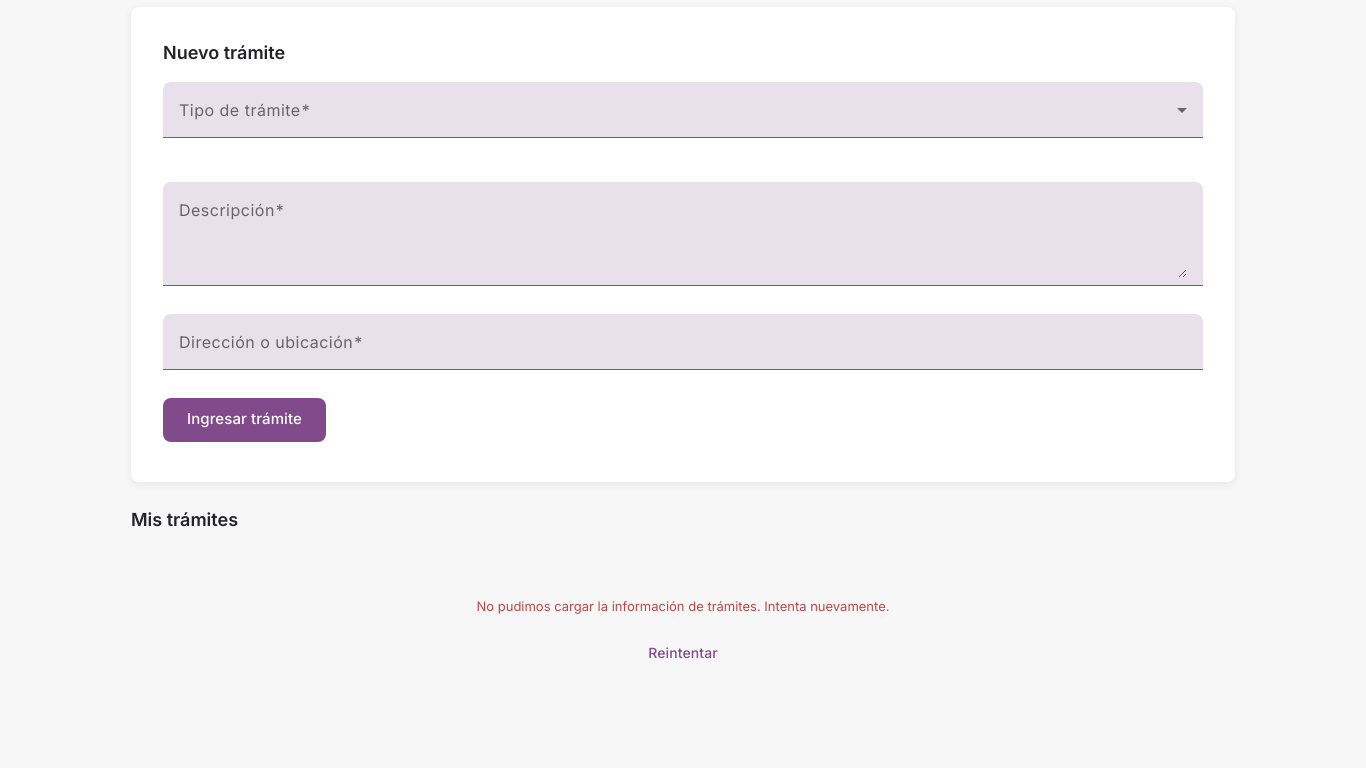
Test: RequestsComponent › si falla la carga ofrece Reintentar y vuelve a pedir el listado
(page scrolled)
What coordinates should you click on to do the following:
click the button "Reintentar"
I would click on:
 (683, 652)
Its box is [636,632,730,672].
(page scrolled)
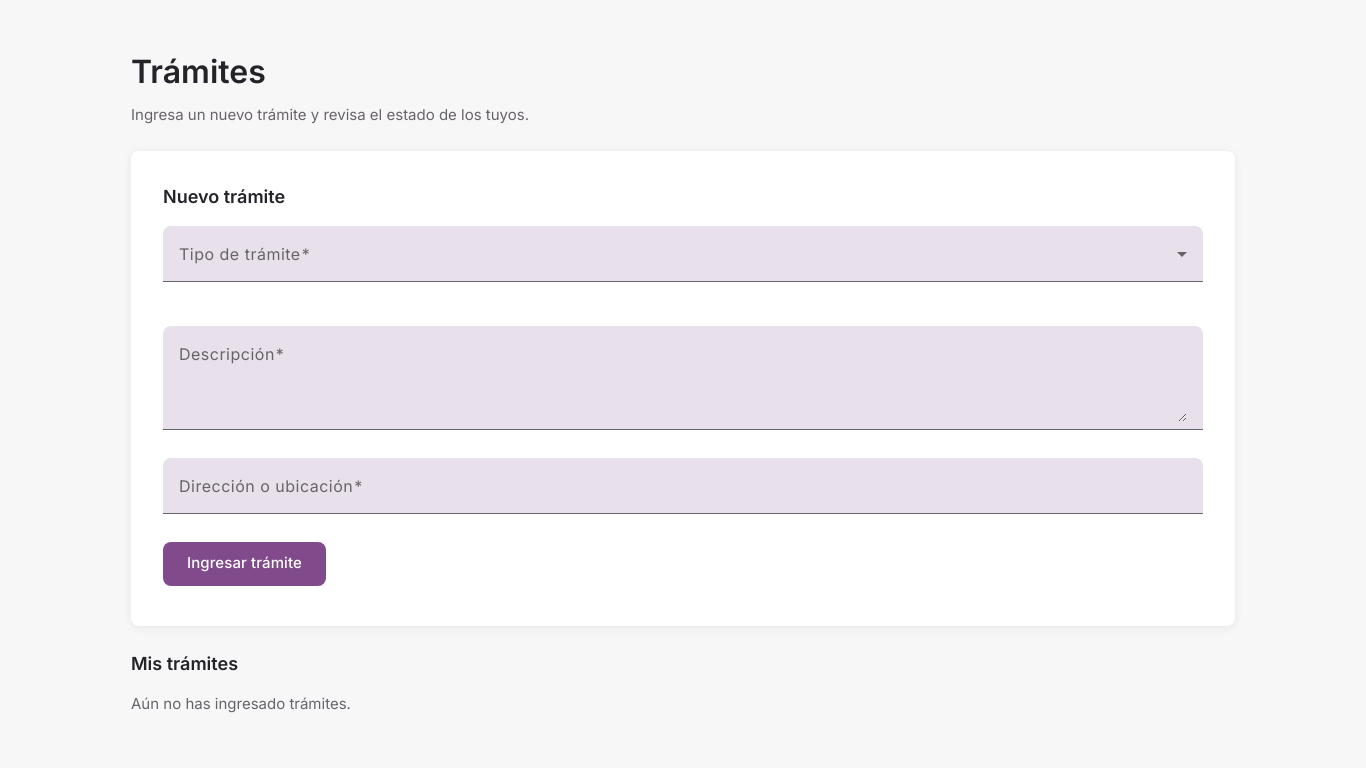
Check: the text "Aún no has ingresado trámites." is shown, box [131,694,351,712]
